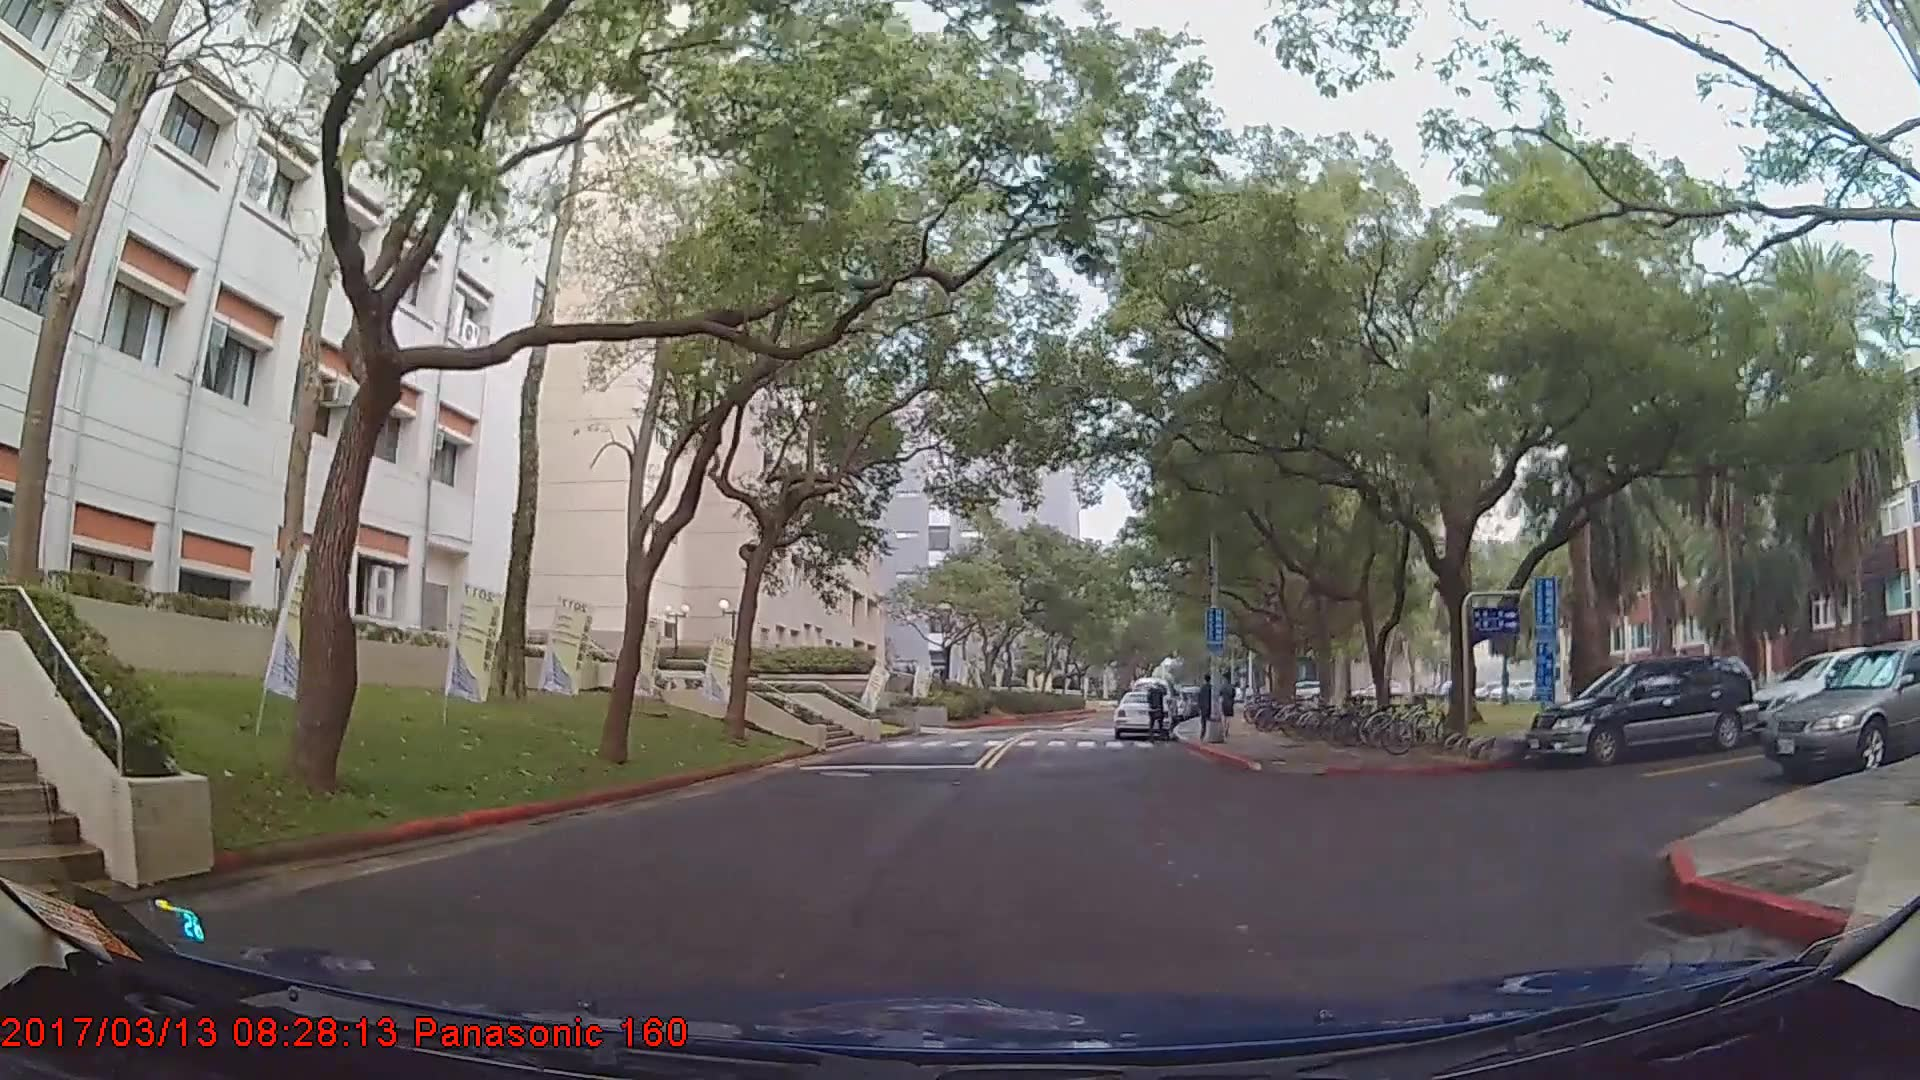pedestrian: (1198, 676, 1221, 739), (1147, 680, 1167, 746)
vehicle: (1524, 652, 1755, 765), (1759, 639, 1920, 783), (1111, 688, 1172, 737)
